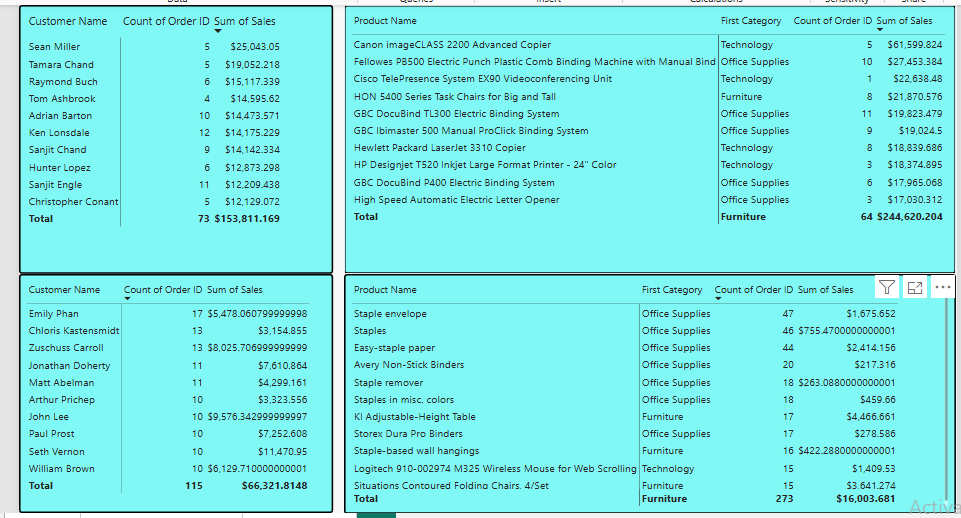

The page's visual inventory and layout, read from the dashboard file:
{"tool":"powerbi","page":{"name":"Customers & Products","canvas":[2400,1300],"ordinal":1},"visuals":[{"type":"pivotTable","fields":{"Rows":["sales_2.Customer Name"],"Values":["Count(sales_2.Order ID)","Sum(sales_2.Sales)"]},"box":[0,0,803.5,688.4],"z":0},{"type":"pivotTable","fields":{"Rows":["sales_2.Customer Name"],"Values":["Count(sales_2.Order ID)","Sum(sales_2.Sales)"]},"box":[0,688.4,803.5,611.6],"z":1000},{"type":"pivotTable","fields":{"Rows":["sales_2.Product Name"],"Values":["Min(sales_2.Category)","CountNonNull(sales_2.Order ID)","Sum(sales_2.Sales)"]},"box":[831.7,688.4,1566.1,614.2],"z":2000},{"type":"pivotTable","fields":{"Rows":["sales_2.Product Name"],"Values":["Min(sales_2.Category)","CountNonNull(sales_2.Order ID)","Sum(sales_2.Sales)"]},"box":[831.7,0,1566.1,688.4],"z":3000}]}

Visuals, with their boxes in screenshot pixels (x1, y1, x2, y2):
pivotTable - sales_2.Customer Name x Count(sales_2.Order ID): Rect(15, 0, 331, 271)
pivotTable - sales_2.Customer Name x Count(sales_2.Order ID): Rect(15, 271, 331, 511)
pivotTable - sales_2.Product Name x Min(sales_2.Category): Rect(342, 271, 957, 512)
pivotTable - sales_2.Product Name x Min(sales_2.Category): Rect(342, 0, 957, 271)
